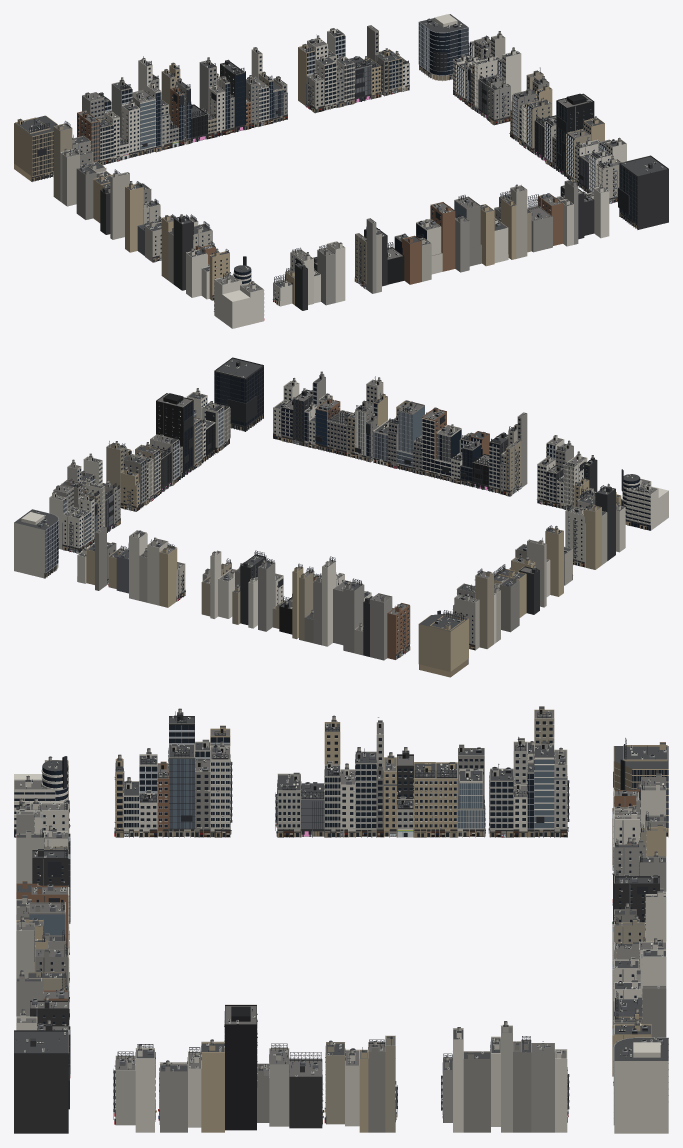
The model's file is HEX_City_04_BUILDINGS_FOREGROUND.fbx.
The picture shows the model from 3 angles, top to bottom: view 1: azimuth 30°, elevation 25°; view 2: azimuth 150°, elevation 25°; view 3: azimuth 270°, elevation 25°; orthographic projection. The views are drawn at different scales.
Parts seen in each view (by area): view 1: FG_Corner_SE_LandmarkCornerWrap, FG_Corner_NE_LandmarkCurved, FG_Corner_SW_LandmarkRoundOld, FG_Corner_NW_LandmarkDept, FG_E_18_LandmarkGlassEnt, FG_W_05_Modern_Back, FG_S_15_Modern, FG_W_10_Louver_Back, FG_S_13_Modern, FG_N_06_Modern, FG_N_17_LandmarkStacked, FG_W_13_Pencil_Back (+58 smaller); view 2: FG_Corner_NW_LandmarkDept, FG_Corner_SE_LandmarkCornerWrap, FG_Corner_NE_LandmarkCurved, FG_Corner_SW_LandmarkRoundOld, FG_E_18_LandmarkGlassEnt, FG_S_13_Modern, FG_N_05_Zakkyo_Back, FG_W_21_Modern_Back, FG_N_02_Mansion_Back, FG_N_01_Louver, FG_N_14_Zakkyo_Back, FG_S_15_Modern (+48 smaller); view 3: FG_Corner_SE_LandmarkCornerWrap, FG_Corner_NE_LandmarkCurved, FG_E_18_LandmarkGlassEnt, FG_W_16_LandmarkBlock, FG_E_15_Arcade, FG_W_05_Modern, FG_Corner_NW_LandmarkDept, FG_E_07_Arcade_Back, FG_E_19_Mansion_Back, FG_E_02_Mansion_Back, FG_Corner_SW_LandmarkRoundOld, FG_W_07_Zakkyo (+63 smaller).
Boxes of the visible parts, x1=… form: FG_Corner_SE_LandmarkCornerWrap: x1=618, y1=155, x2=668, y2=229; FG_Corner_NE_LandmarkCurved: x1=418, y1=14, x2=468, y2=81; FG_Corner_SW_LandmarkRoundOld: x1=214, y1=256, x2=264, y2=328; FG_Corner_NW_LandmarkDept: x1=14, y1=115, x2=57, y2=181; FG_E_18_LandmarkGlassEnt: x1=556, y1=93, x2=594, y2=176; FG_W_05_Modern_Back: x1=173, y1=214, x2=193, y2=290; FG_S_15_Modern: x1=430, y1=202, x2=455, y2=271; FG_W_10_Louver_Back: x1=125, y1=181, x2=143, y2=252; FG_S_13_Modern: x1=454, y1=195, x2=481, y2=266; FG_N_06_Modern: x1=132, y1=89, x2=155, y2=155; FG_N_17_LandmarkStacked: x1=220, y1=59, x2=245, y2=132; FG_W_13_Pencil_Back: x1=110, y1=171, x2=129, y2=239; FG_Corner_NW_LandmarkDept: x1=418, y1=610, x2=468, y2=677; FG_Corner_SE_LandmarkCornerWrap: x1=214, y1=357, x2=263, y2=431; FG_Corner_NE_LandmarkCurved: x1=14, y1=509, x2=58, y2=578; FG_Corner_SW_LandmarkRoundOld: x1=621, y1=469, x2=668, y2=530; FG_E_18_LandmarkGlassEnt: x1=156, y1=393, x2=193, y2=476; FG_S_13_Modern: x1=396, y1=401, x2=424, y2=472; FG_N_05_Zakkyo_Back: x1=343, y1=578, x2=364, y2=652; FG_W_21_Modern_Back: x1=474, y1=568, x2=493, y2=648; FG_N_02_Mansion_Back: x1=370, y1=593, x2=392, y2=660; FG_N_01_Louver: x1=387, y1=602, x2=410, y2=659; FG_N_14_Zakkyo_Back: x1=258, y1=558, x2=275, y2=631; FG_S_15_Modern: x1=421, y1=407, x2=446, y2=477; FG_Corner_SE_LandmarkCornerWrap: x1=14, y1=1030, x2=69, y2=1133; FG_Corner_NE_LandmarkCurved: x1=613, y1=1037, x2=668, y2=1133; FG_E_18_LandmarkGlassEnt: x1=224, y1=1004, x2=257, y2=1130; FG_W_16_LandmarkBlock: x1=413, y1=762, x2=457, y2=837; FG_E_15_Arcade: x1=289, y1=1052, x2=323, y2=1128; FG_W_05_Modern: x1=168, y1=743, x2=195, y2=837; FG_Corner_NW_LandmarkDept: x1=613, y1=738, x2=668, y2=837; FG_E_07_Arcade_Back: x1=463, y1=1051, x2=490, y2=1132; FG_E_19_Mansion_Back: x1=201, y1=1039, x2=224, y2=1132; FG_E_02_Mansion_Back: x1=531, y1=1041, x2=554, y2=1132; FG_Corner_SW_LandmarkRoundOld: x1=14, y1=756, x2=70, y2=837; FG_W_07_Zakkyo: x1=210, y1=741, x2=232, y2=837.
Bounding box in the file's own units: 1278 × 238 × 1108.
